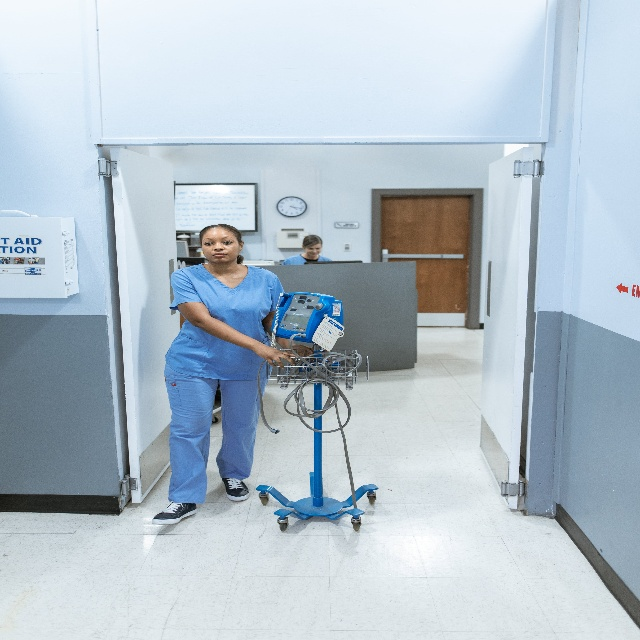Sin_guantes: (260, 341, 295, 373)
